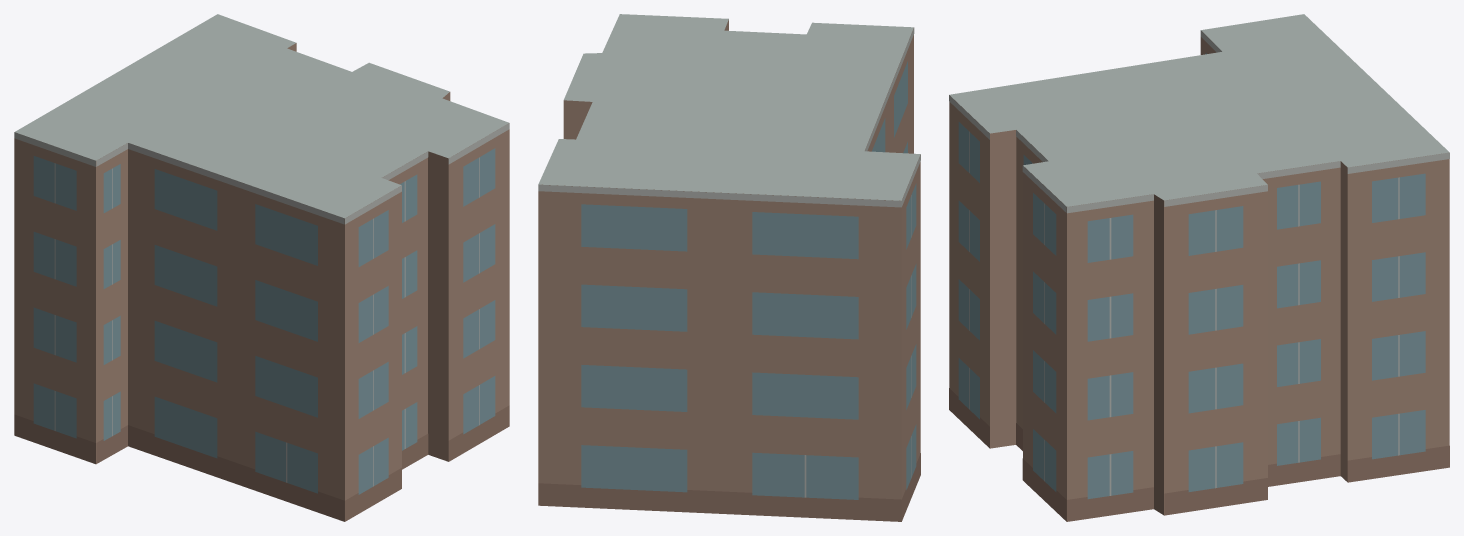
File: survey-upis-32586301.glb
3 views of the same model, side by side, from view 1: azimuth 30°, elevation 25°; view 2: azimuth 150°, elevation 25°; view 3: azimuth 270°, elevation 25° (orthographic). The views are drawn at different scales.
Visible parts, largest first — view 1: survey-upis-32586301.tmp; view 2: survey-upis-32586301.tmp; view 3: survey-upis-32586301.tmp.
Boxes of the visible parts, x1,y1,x2,y2 form: survey-upis-32586301.tmp: [14, 14, 509, 521]; survey-upis-32586301.tmp: [538, 14, 920, 521]; survey-upis-32586301.tmp: [949, 14, 1449, 521].
Bounding box in the file's own units: 15.5 × 11.8 × 17.01.
